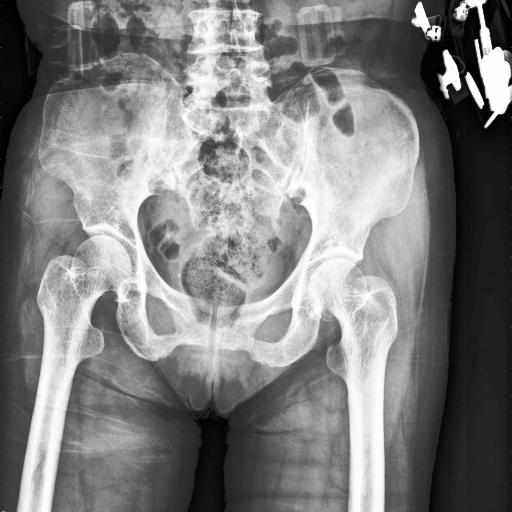normal: (24, 235, 131, 464), (309, 258, 398, 463)
